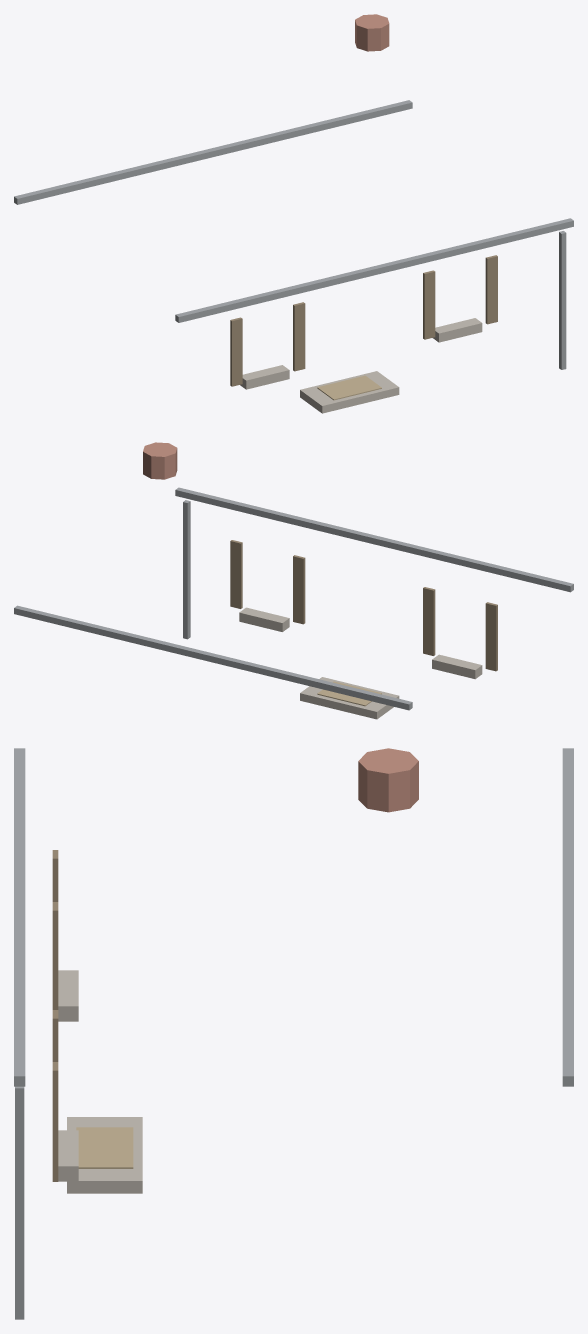
File: house-detail.glb
3 renders of one model, top to bottom at view 1: azimuth 30°, elevation 25°; view 2: azimuth 150°, elevation 25°; view 3: azimuth 270°, elevation 25°, orthographic. The views are drawn at different scales.
Visible parts, largest first — view 1: HouseGutter_front, HouseGutter_back, HouseFrontStep, HouseChimneyPot, HouseDownspout, HouseDoormat, HouseShutter_-2.0_-1, HouseShutter_2.0_1, HouseShutter_-2.0_1, HouseShutter_2.0_-1, HouseWindowBox_-2.0, HouseWindowBox_2.0; view 2: HouseGutter_back, HouseGutter_front, HouseFrontStep, HouseChimneyPot, HouseDownspout, HouseShutter_-2.0_-1, HouseShutter_-2.0_1, HouseShutter_2.0_-1, HouseShutter_2.0_1, HouseWindowBox_-2.0, HouseWindowBox_2.0, HouseDoormat; view 3: HouseGutter_front, HouseGutter_back, HouseChimneyPot, HouseFrontStep, HouseDoormat, HouseDownspout, HouseWindowBox_-2.0, HouseWindowBox_2.0, HouseShutter_2.0_1, HouseShutter_-2.0_1.
Part boxes in pixels (left/top/right/bottom): HouseGutter_front: left=175, top=218, right=573, bottom=322; HouseGutter_back: left=14, top=100, right=412, bottom=204; HouseFrontStep: left=300, top=371, right=399, bottom=413; HouseChimneyPot: left=355, top=14, right=389, bottom=51; HouseDownspout: left=559, top=231, right=566, bottom=369; HouseDoormat: left=317, top=375, right=381, bottom=400; HouseShutter_-2.0_-1: left=230, top=317, right=242, bottom=386; HouseShutter_2.0_1: left=485, top=255, right=497, bottom=324; HouseShutter_-2.0_1: left=293, top=302, right=305, bottom=371; HouseShutter_2.0_-1: left=423, top=270, right=435, bottom=339; HouseWindowBox_-2.0: left=240, top=365, right=289, bottom=389; HouseWindowBox_2.0: left=433, top=318, right=482, bottom=342; HouseGutter_back: left=14, top=605, right=412, bottom=710; HouseGutter_front: left=175, top=487, right=573, bottom=592; HouseFrontStep: left=300, top=677, right=399, bottom=719; HouseChimneyPot: left=143, top=442, right=177, bottom=479; HouseDownspout: left=183, top=500, right=190, bottom=639; HouseShutter_-2.0_-1: left=485, top=602, right=497, bottom=671; HouseShutter_-2.0_1: left=423, top=587, right=435, bottom=655; HouseShutter_2.0_-1: left=293, top=555, right=305, bottom=624; HouseShutter_2.0_1: left=230, top=540, right=242, bottom=608; HouseWindowBox_-2.0: left=432, top=654, right=482, bottom=679; HouseWindowBox_2.0: left=239, top=607, right=289, bottom=631; HouseDoormat: left=317, top=681, right=381, bottom=706; HouseGutter_front: left=14, top=748, right=25, bottom=1086; HouseGutter_back: left=562, top=748, right=573, bottom=1086; HouseChimneyPot: left=358, top=748, right=418, bottom=812; HouseFrontStep: left=67, top=1117, right=142, bottom=1193; HouseDoormat: left=76, top=1127, right=133, bottom=1168; HouseDownspout: left=15, top=1086, right=24, bottom=1319; HouseWindowBox_-2.0: left=58, top=970, right=78, bottom=1021; HouseWindowBox_2.0: left=58, top=1130, right=78, bottom=1181; HouseShutter_2.0_1: left=52, top=1062, right=58, bottom=1181; HouseShutter_-2.0_1: left=52, top=902, right=58, bottom=1009.
Bounding box in the file's own units: 8.2 × 5.7 × 5.92.
